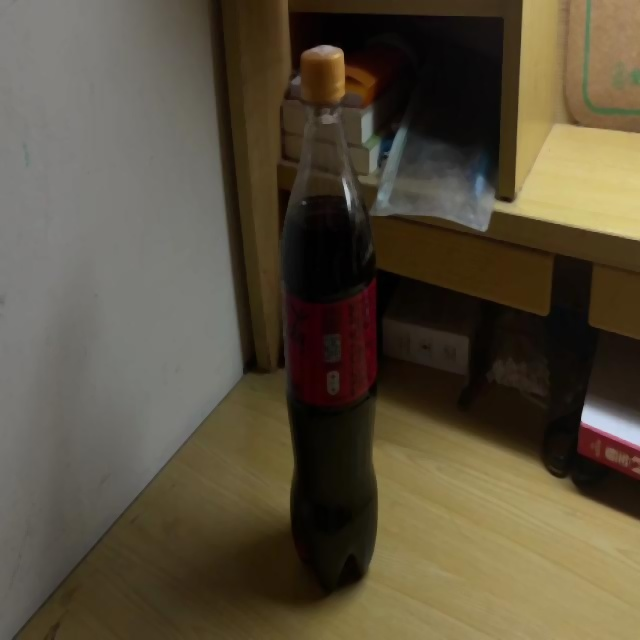Coca-Cola: (280, 45, 380, 592)
